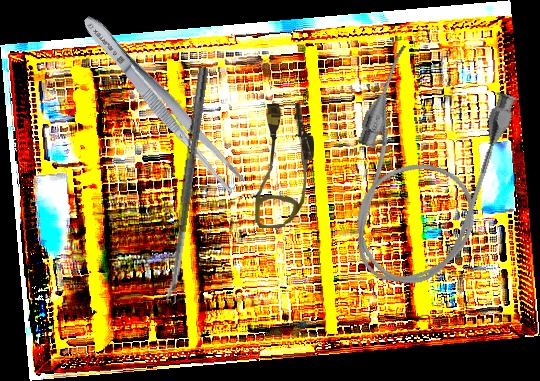Cannula: (320, 40, 523, 303), (251, 102, 317, 229)
Dressing Forceps: (74, 8, 250, 197)
Surgical Spoon: (164, 66, 209, 305)
